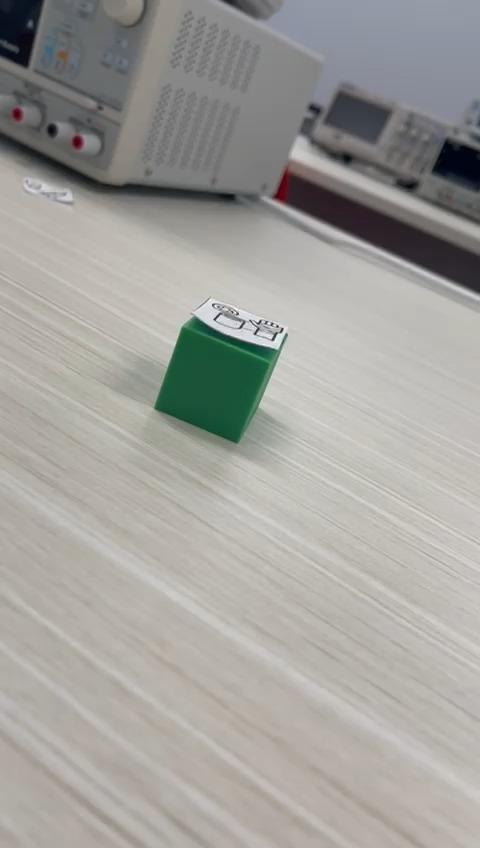Bandages: (155, 295, 290, 444)
